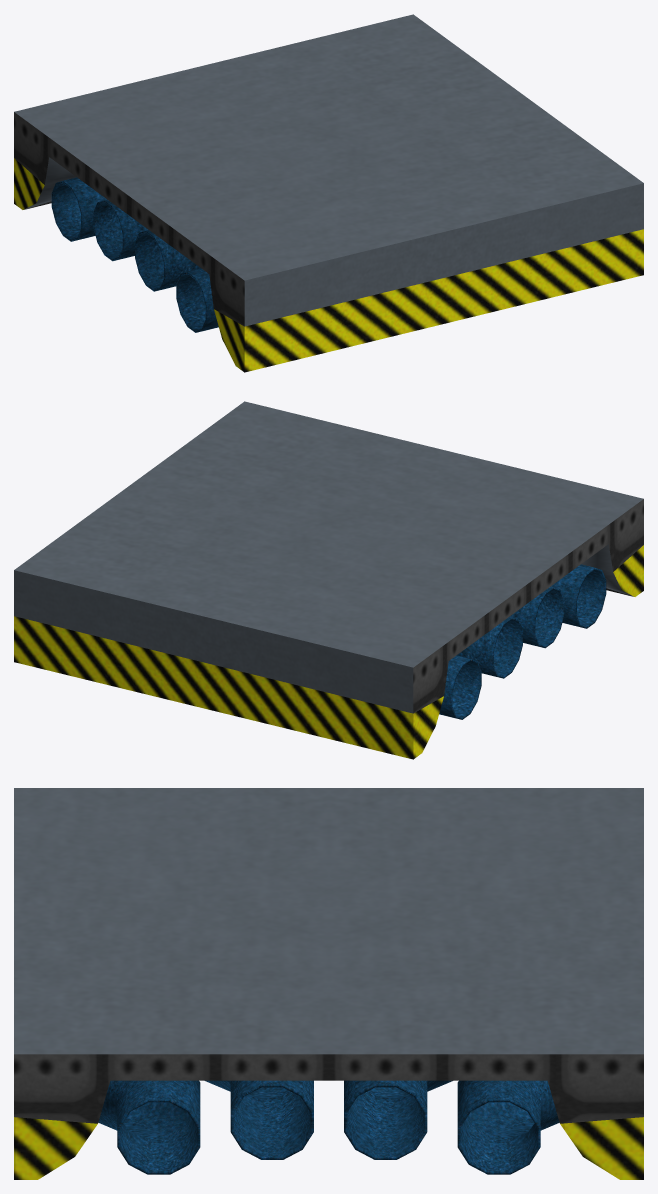
The model's file is CeilingPanels17.fbx.
The picture shows the model from 3 angles, top to bottom: view 1: azimuth 30°, elevation 25°; view 2: azimuth 150°, elevation 25°; view 3: azimuth 270°, elevation 25°; orthographic projection. The views are drawn at different scales.
Visible parts, largest first — view 1: CeilingPanels17; view 2: CeilingPanels17; view 3: CeilingPanels17.
Part boxes in pixels (box(x1,y1,x2,y2)): CeilingPanels17: box(14, 14, 643, 372); CeilingPanels17: box(14, 401, 643, 759); CeilingPanels17: box(14, 788, 643, 1179).
Size of the model in its own units: 200 by 44 by 200.
